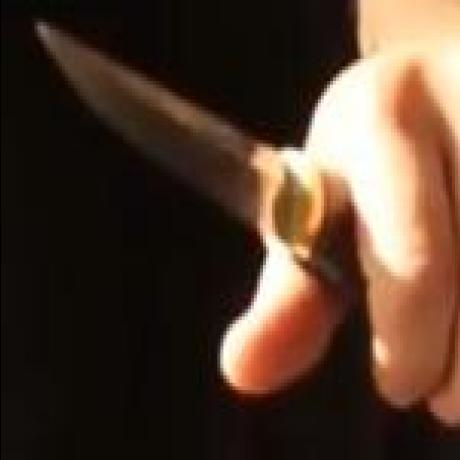weapon: (27, 13, 329, 251)
